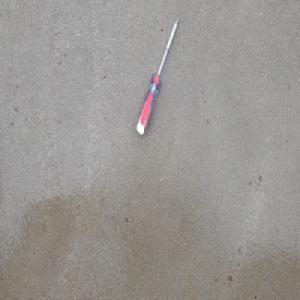Screwdriver: (135, 16, 179, 137)
